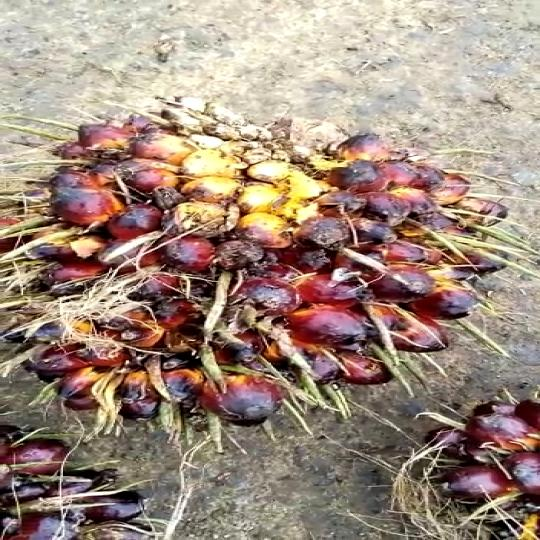kurang masak: (0, 114, 508, 456)
